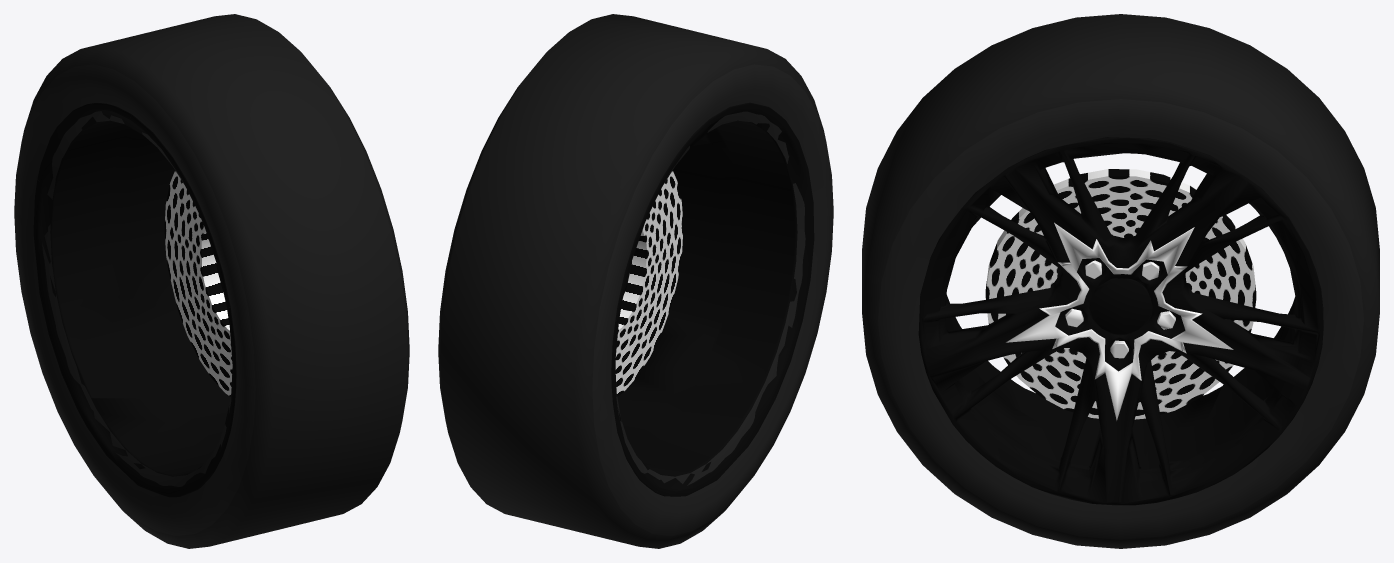
The picture shows the model from 3 angles, left to right: view 1: azimuth 30°, elevation 25°; view 2: azimuth 150°, elevation 25°; view 3: azimuth 270°, elevation 25°; orthographic projection.
Visible parts, largest first — view 1: object 3, WheelRearLRim, WheelRearLBrakeDisc; view 2: object 3, WheelRearLRim, WheelRearLBrakeDisc; view 3: object 3, WheelRearLRim, WheelRearLBrakeDisc.
Part boxes in pixels (x1,y1,x2,y2): object 3: (14,14,409,548); WheelRearLRim: (33,103,236,497); WheelRearLBrakeDisc: (164,170,232,396); object 3: (438,14,833,548); WheelRearLRim: (611,102,814,496); WheelRearLBrakeDisc: (615,170,683,396); object 3: (862,14,1379,548); WheelRearLRim: (918,137,1323,505); WheelRearLBrakeDisc: (985,169,1256,419).
Size of the model in its own units: 0.2841 by 0.768 by 0.768.
5 materials, 1 textured.
